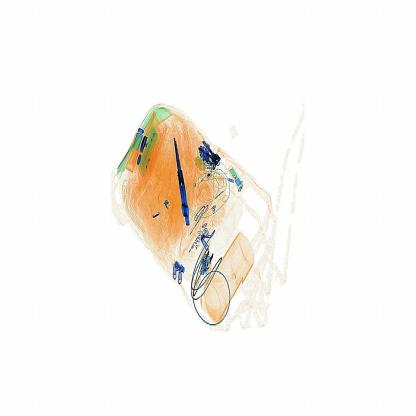gun: (170, 127, 199, 234)
